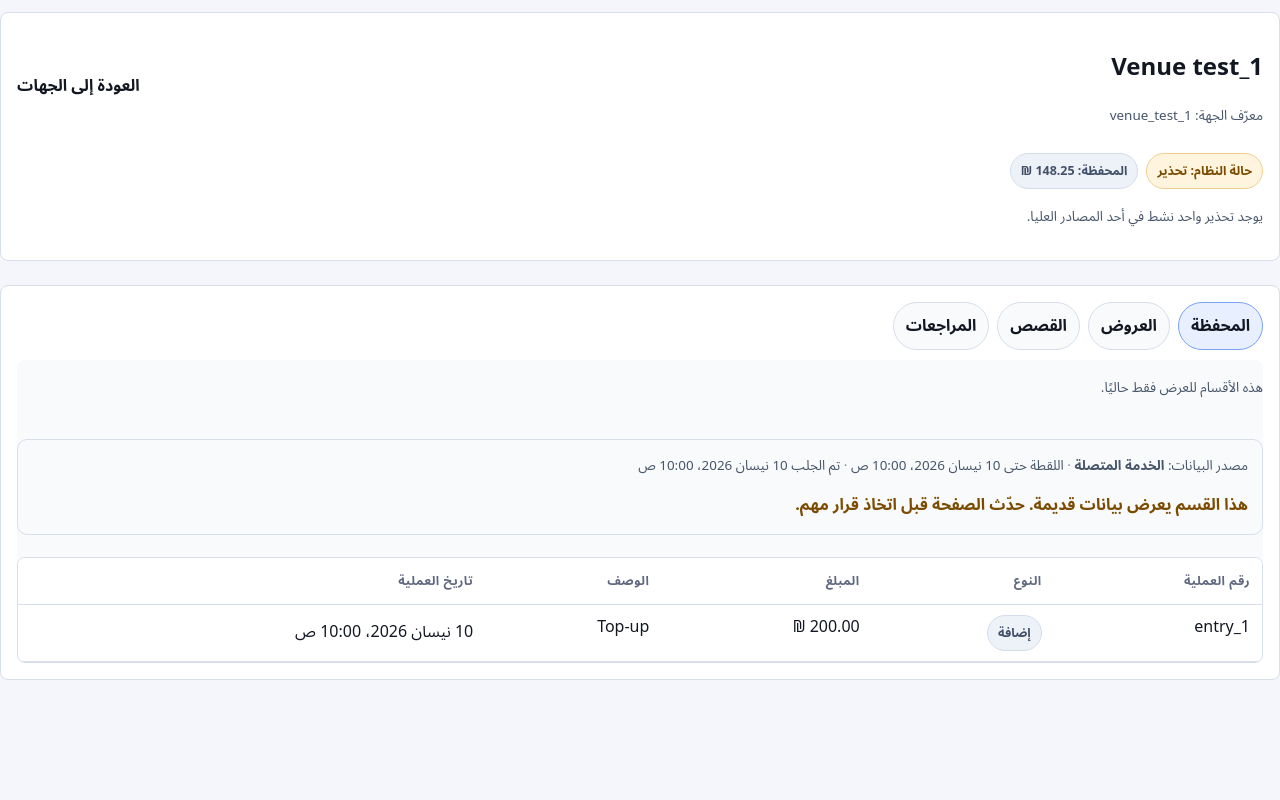
Test: venue workspace shell › shows unavailable and stale state indicators for tabs
Expected: the message "هذا القسم يعرض بيانات قديمة. حدّث الصفحة قبل اتخاذ قرار مهم." is shown, x1=795 y1=493 x2=1248 y2=515
Click the tab with test id "venue-workspace-tab-stories".
click(1039, 326)  # box x1=997 y1=302 x2=1080 y2=350
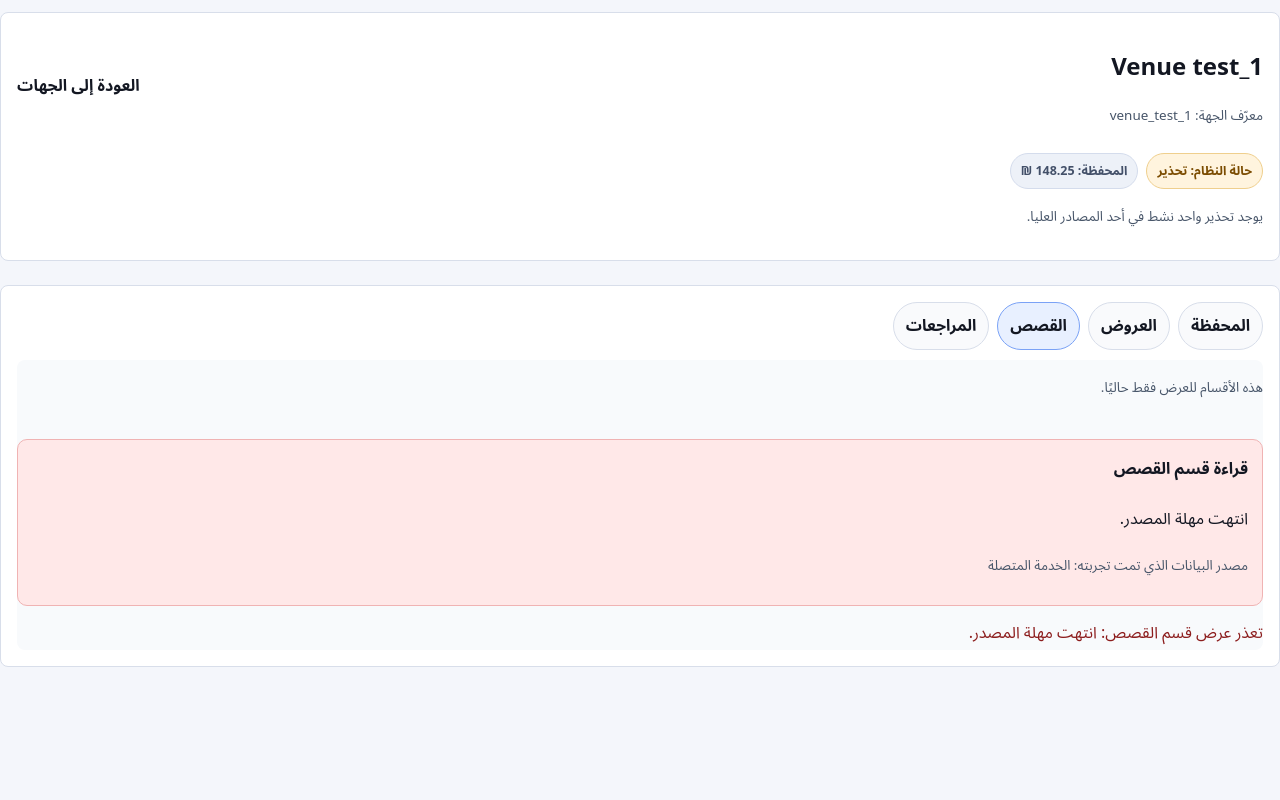
Expected: the message with test id "venue-tab-unavailable-stories" shows "انتهت مهلة المصدر", x1=969 y1=621 x2=1097 y2=643
